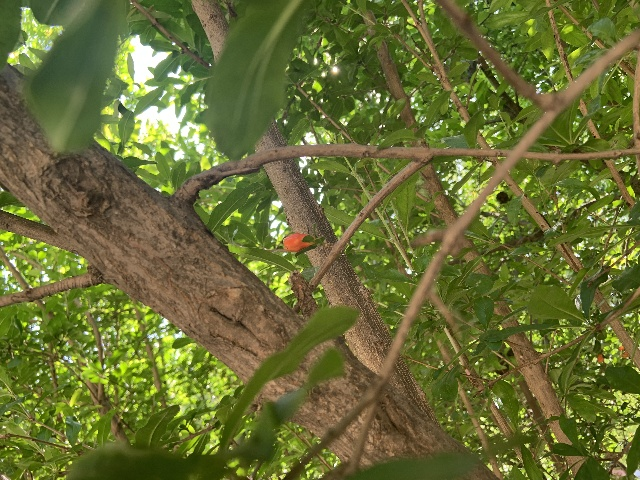bud: (283, 232, 315, 252)
